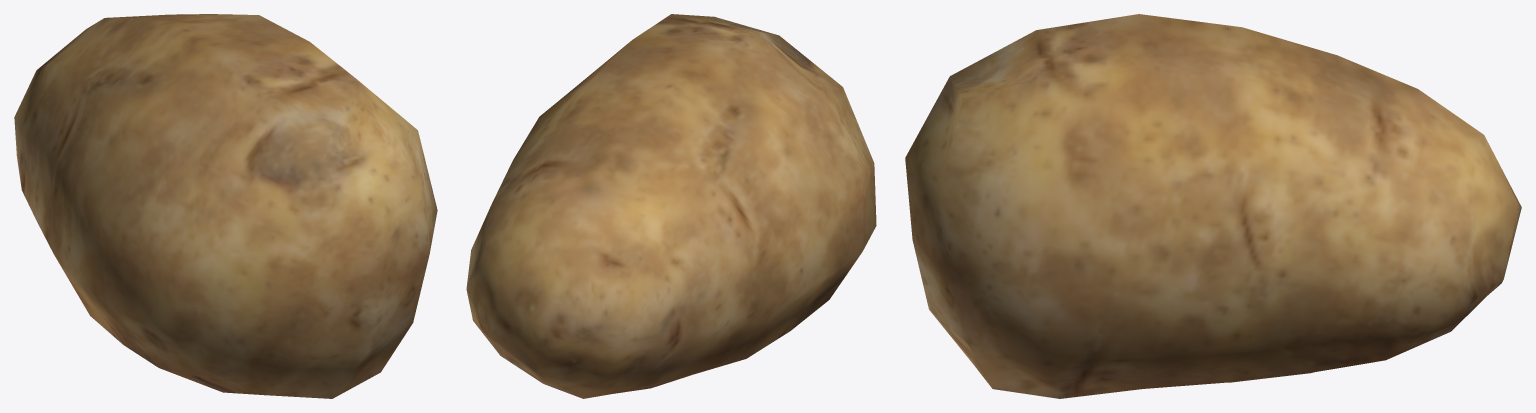
The model's file is Prop_Vegetables_Potatoes_x1.fbx.
The picture shows the model from 3 angles, left to right: view 1: azimuth 30°, elevation 25°; view 2: azimuth 150°, elevation 25°; view 3: azimuth 270°, elevation 25°; orthographic projection. The views are drawn at different scales.
Visible parts, largest first — view 1: Prop_Vegetables_Potatoes_x1; view 2: Prop_Vegetables_Potatoes_x1; view 3: Prop_Vegetables_Potatoes_x1.
Boxes of the visible parts, left/top/right/bottom form: Prop_Vegetables_Potatoes_x1: left=14, top=14, right=437, bottom=398; Prop_Vegetables_Potatoes_x1: left=466, top=14, right=876, bottom=398; Prop_Vegetables_Potatoes_x1: left=905, top=14, right=1521, bottom=398.
Bounding box in the file's own units: 4.55 × 4.53 × 7.2.
